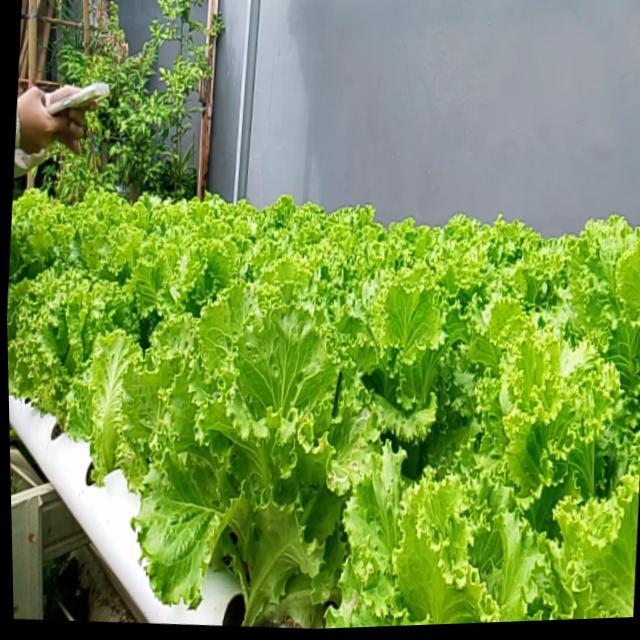Mature: (7, 191, 640, 628), (167, 318, 372, 627), (7, 238, 157, 463)
